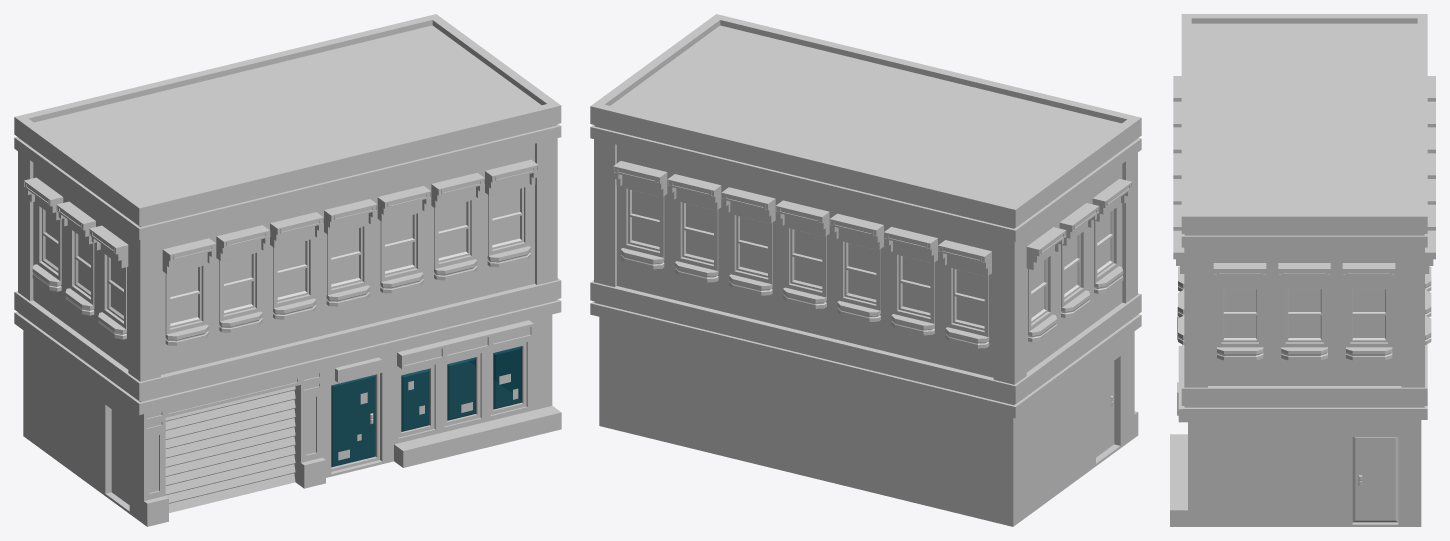
Rendered from shop_03_medium.fbx.
The picture shows the model from 3 angles, left to right: view 1: azimuth 30°, elevation 25°; view 2: azimuth 150°, elevation 25°; view 3: azimuth 270°, elevation 25°; orthographic projection. The views are drawn at different scales.
Parts seen in each view (by area): view 1: shop_03_medium, shop_03_medium_glass; view 2: shop_03_medium; view 3: shop_03_medium.
Boxes of the visible parts, box(x1,y1,x2,y2) form: shop_03_medium: box(14, 14, 561, 526); shop_03_medium_glass: box(331, 346, 521, 467); shop_03_medium: box(590, 14, 1141, 526); shop_03_medium: box(1170, 14, 1435, 526).
Bounding box in the file's own units: 1275 × 889 × 684.
